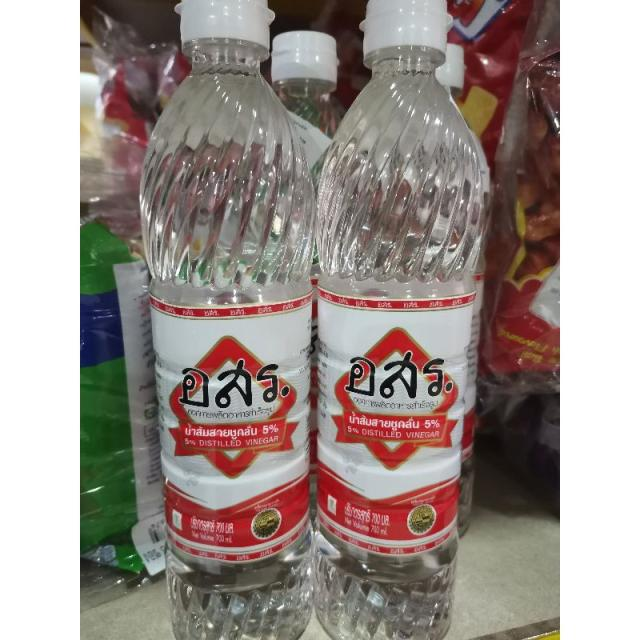plastic: (143, 0, 480, 640)
